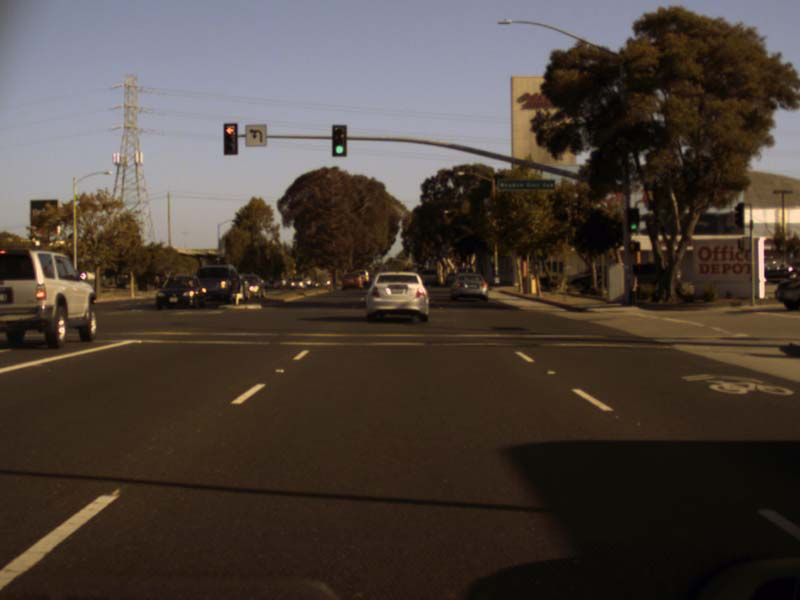Green: (331, 124, 346, 156), (628, 208, 639, 229)
Red: (223, 122, 238, 155)
